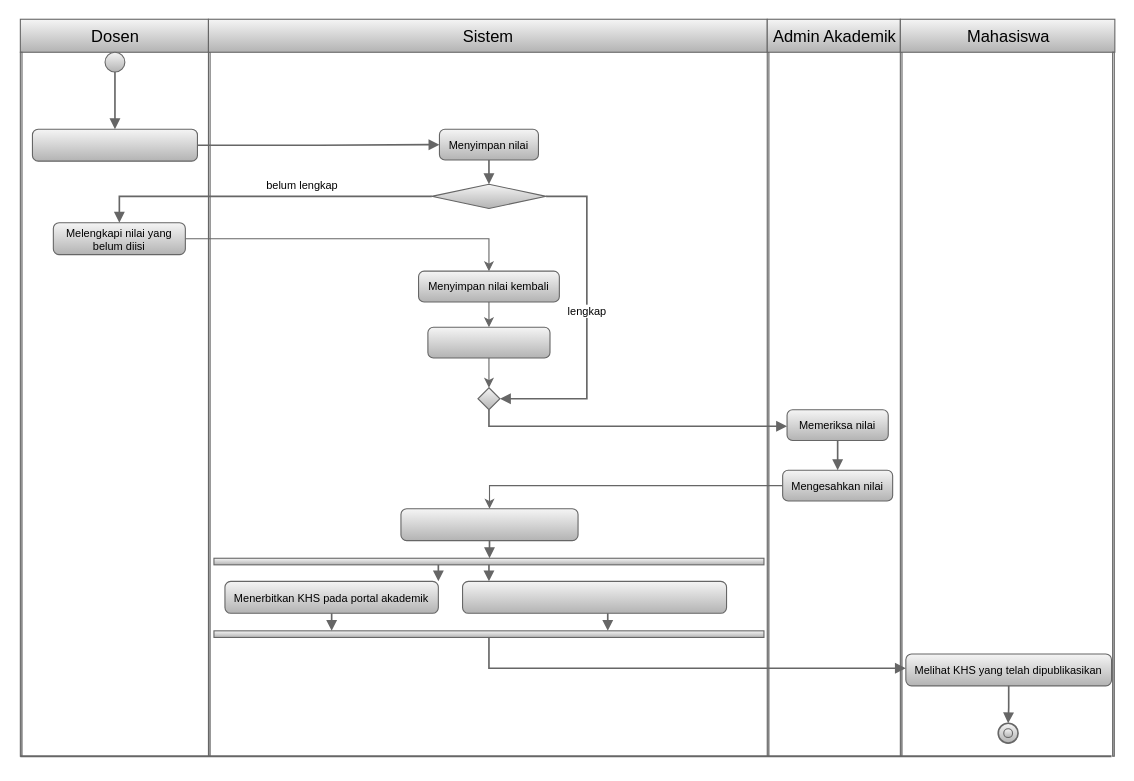
Image size: 1134x781. Some labels were removed from this diagram. Here are the shapes that lost their labels. From the top down, the centre of each, then its label:
At point (114, 144): "Memasukkan nilai mahasiswa".
At point (488, 195): "Nilai sudah lengkap?".
At point (488, 342): "Menggabungkan alur".
At point (489, 524): "Menyiapkan publikasi hasil studi".
At point (594, 596): "Mengirim pemberitahuan hasil studi kepada mahasiswa".
